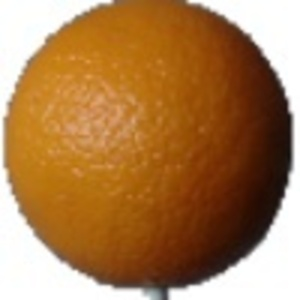laranja: (5, 3, 296, 293)
